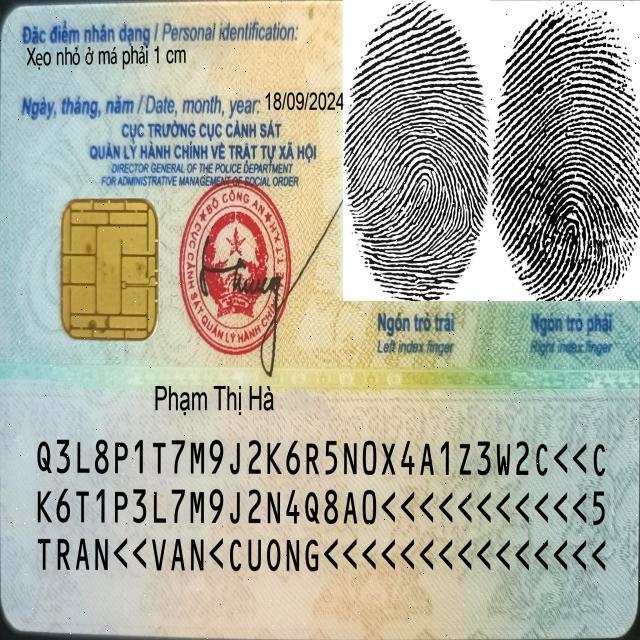features: (24, 42, 192, 70)
finger_print: (341, 1, 492, 356), (492, 1, 640, 358)
issue_date: (262, 85, 345, 119)
